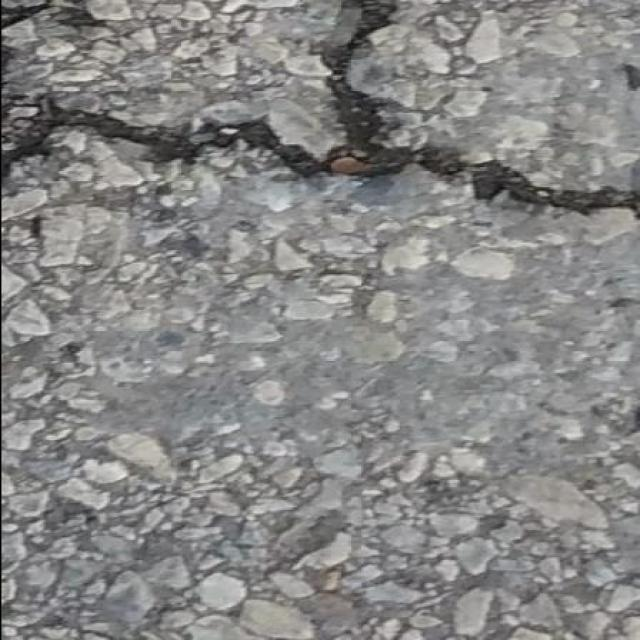Crack: (1, 0, 640, 209), (624, 394, 640, 430)
